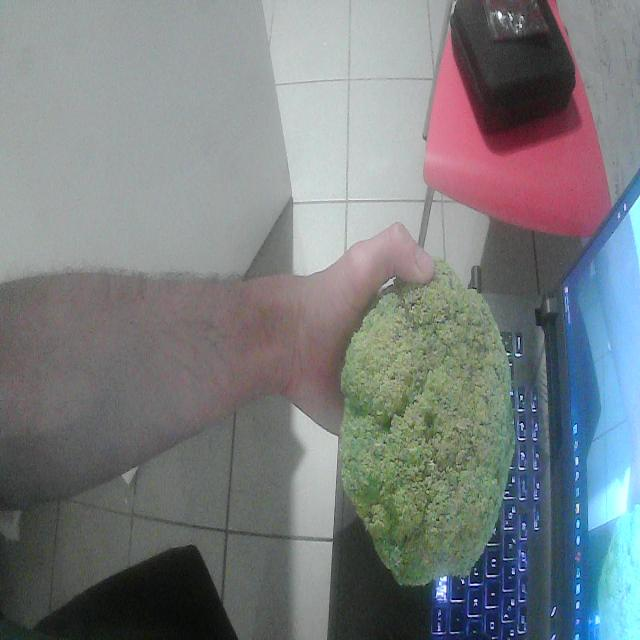Broccoli: (339, 260, 516, 587)
